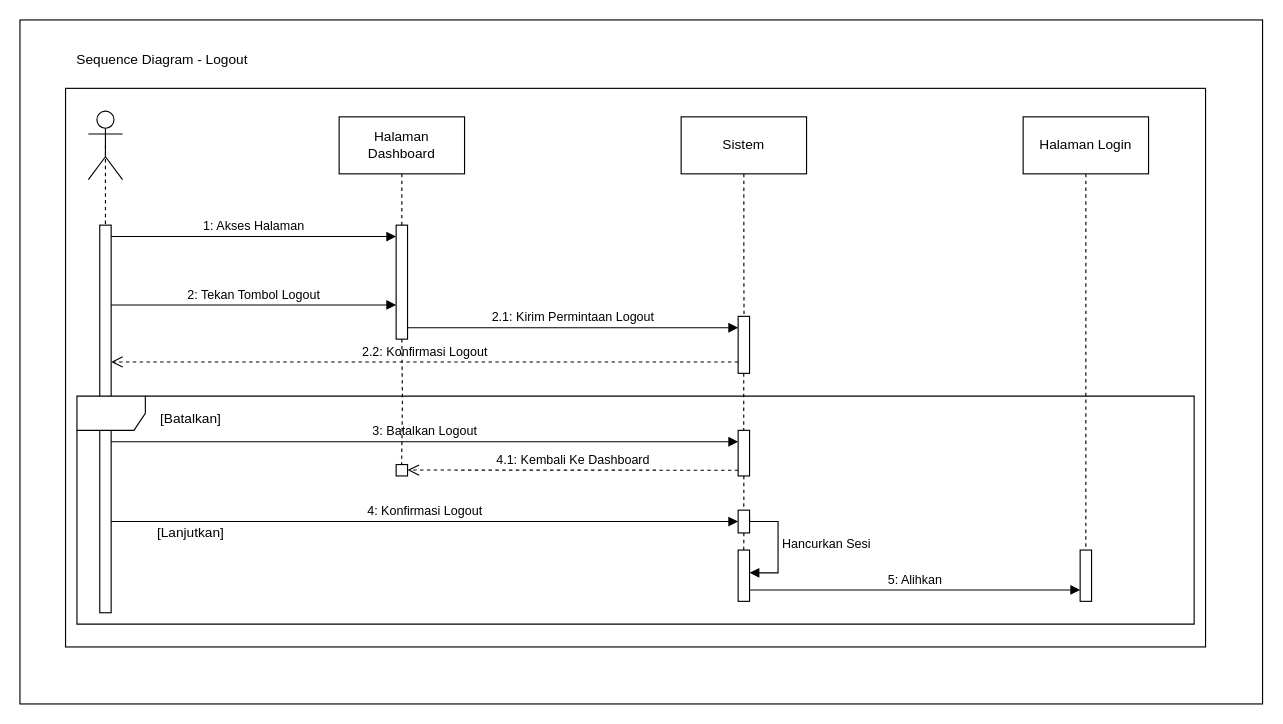
The diagram is 1283 pixels wide and 724 high, and some of its shapes have lost their labels. Each missing label, with the box of its shape:
ALT: (76, 395, 1194, 624)
User: (87, 110, 123, 180)
